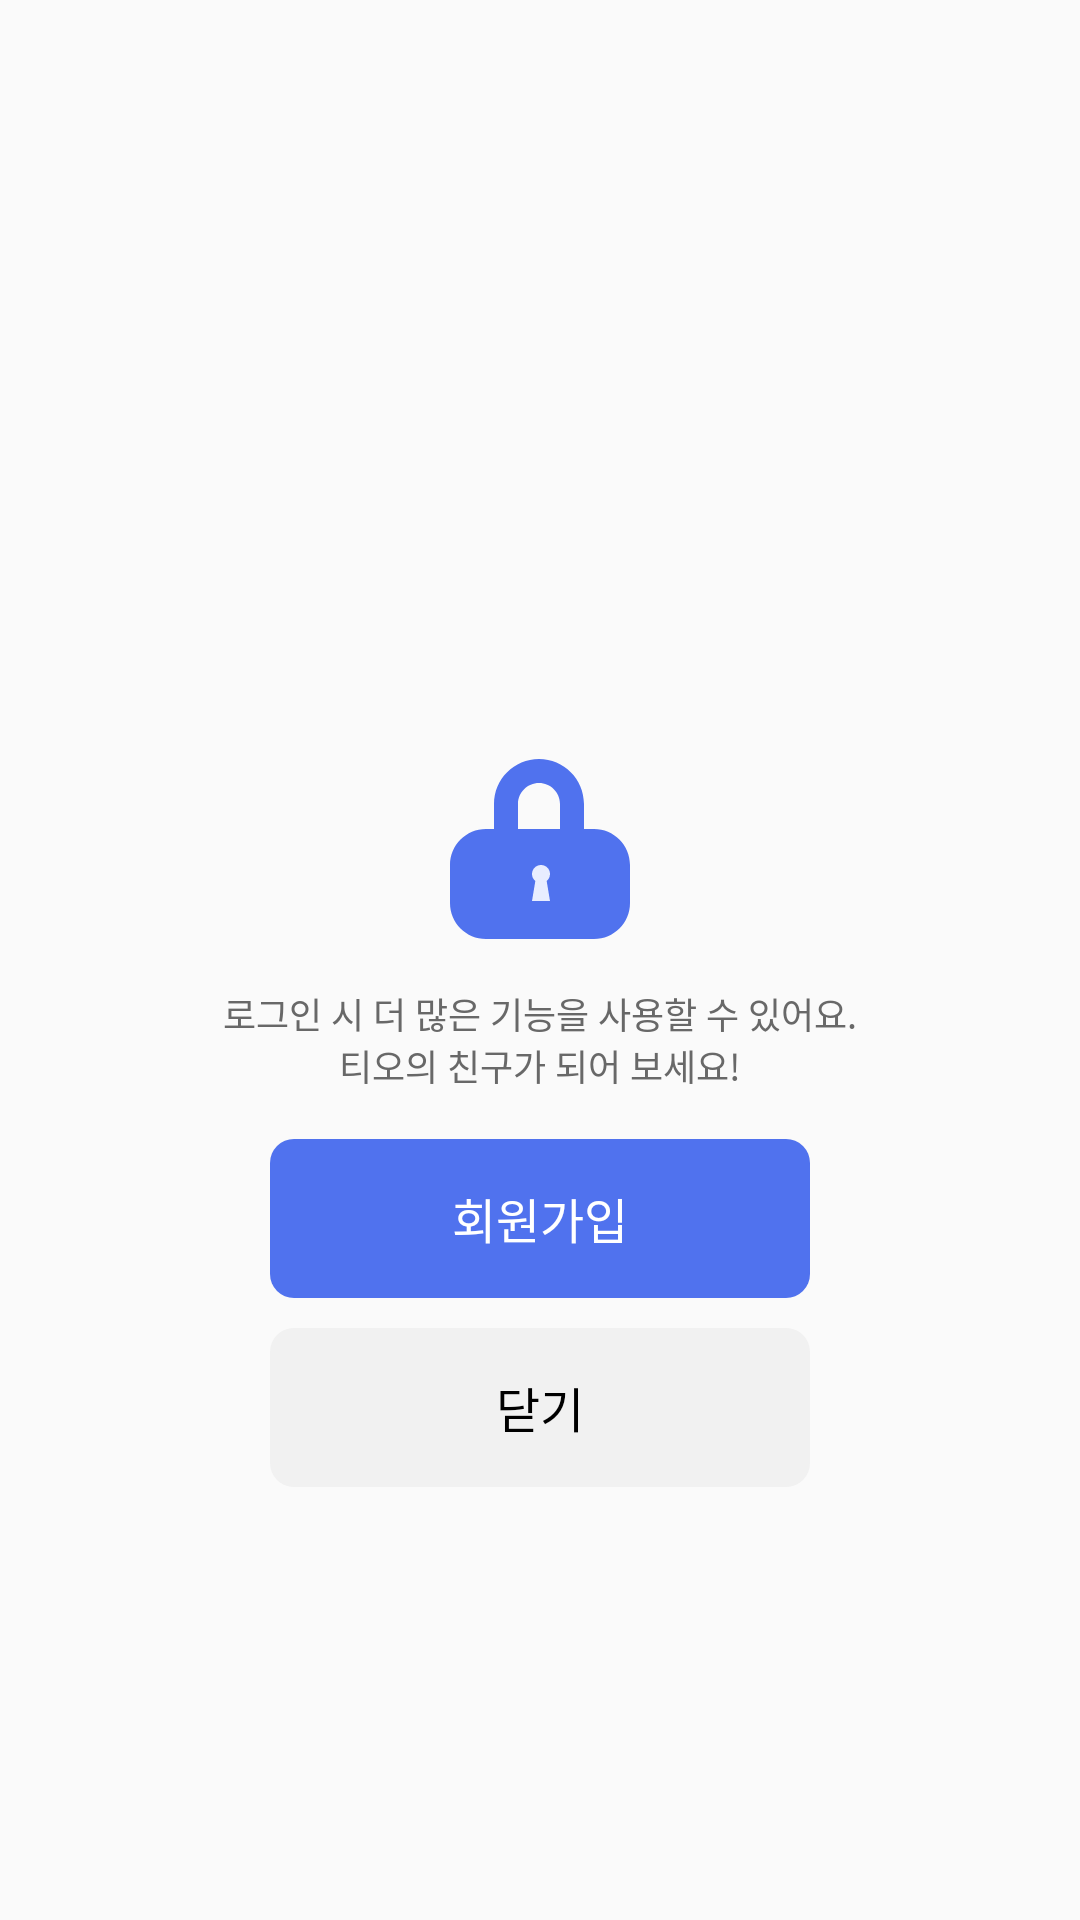

Icons on this 1080 x 1920 Android screen, each with its box as (x1, y1, x2, y2):
visitor lock: (450, 759, 630, 939)
